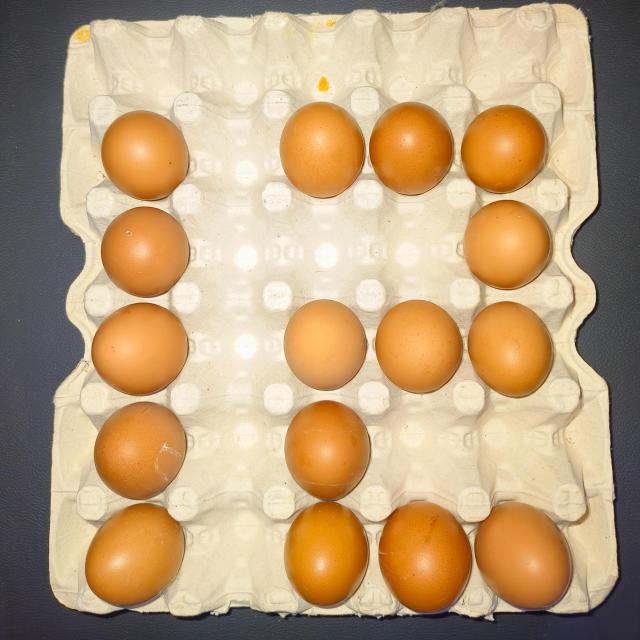Eggs: (481, 506, 579, 610), (89, 502, 186, 605), (466, 305, 556, 399), (382, 513, 472, 607), (370, 96, 452, 199), (91, 306, 190, 391), (285, 401, 373, 495), (284, 100, 365, 202), (98, 110, 194, 196), (99, 203, 191, 291), (96, 404, 188, 492), (460, 100, 551, 187), (285, 512, 375, 598), (378, 299, 462, 391), (285, 300, 367, 392), (468, 204, 552, 287)
